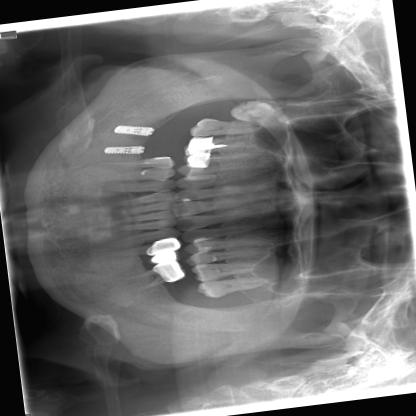ITI: (108, 123, 158, 136), (99, 145, 147, 155)
